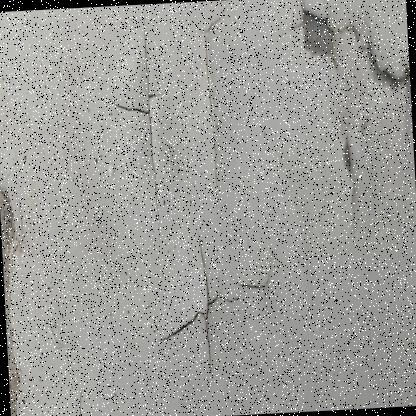Crack: (275, 0, 415, 274), (0, 107, 90, 415), (138, 225, 288, 390), (86, 3, 185, 252), (186, 0, 253, 220)
